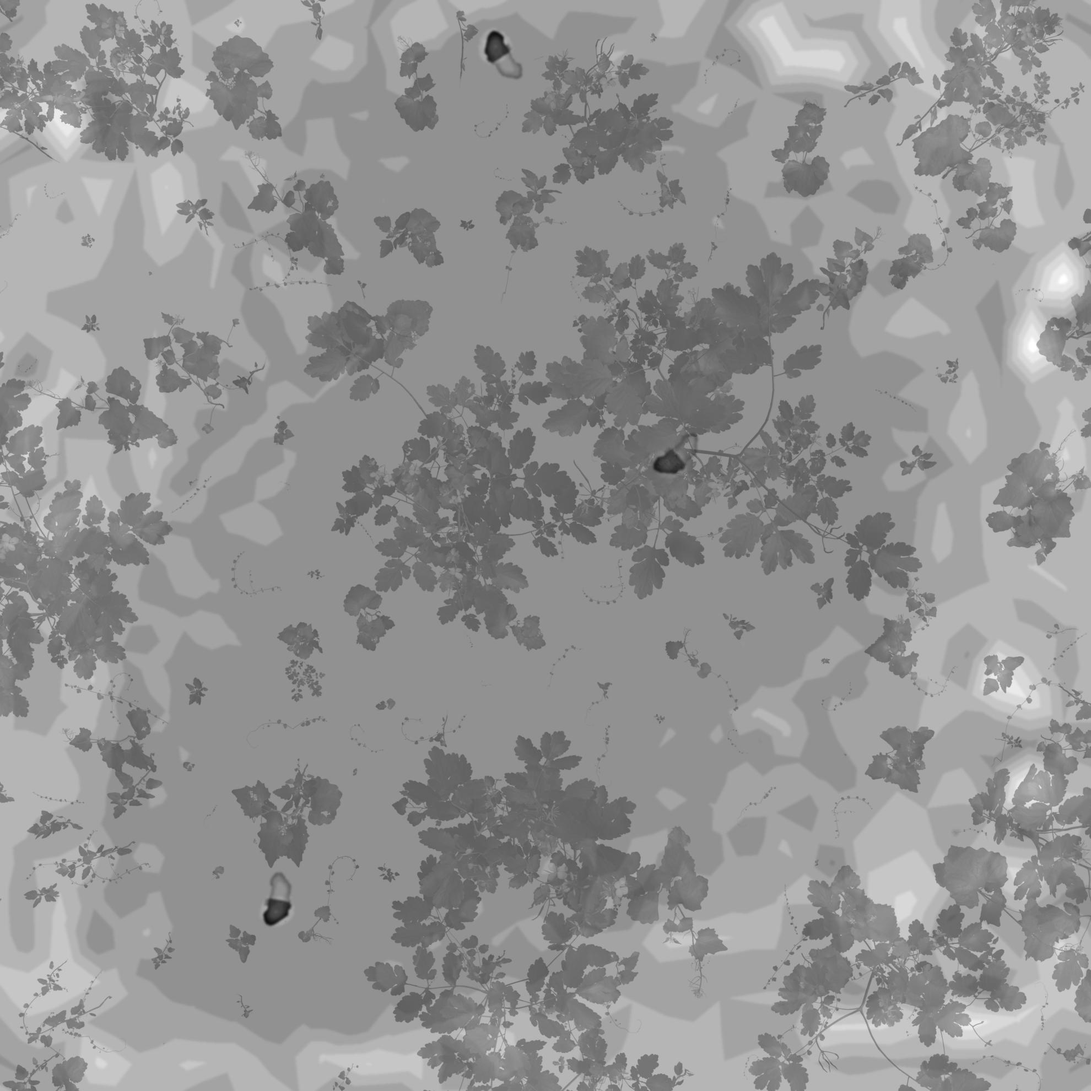landmine: (482, 25, 530, 83), (257, 869, 300, 931), (651, 429, 704, 478)
